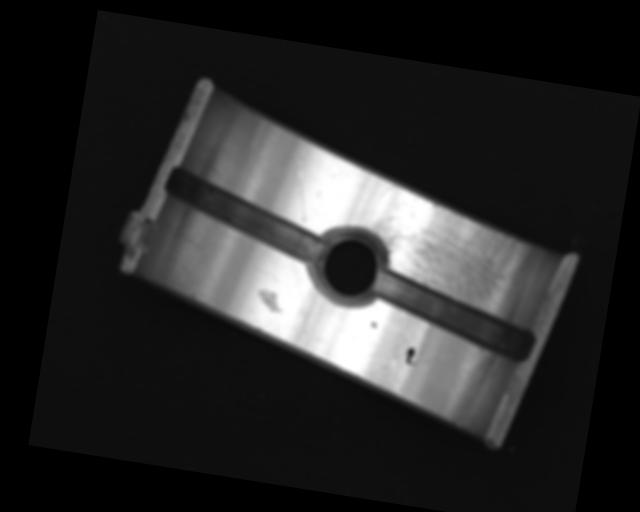blot: (403, 346, 421, 367)
bruise: (254, 285, 285, 313), (370, 322, 378, 329)
gap: (159, 167, 331, 266), (365, 271, 541, 364)
hole: (304, 223, 392, 311)
nick: (289, 160, 314, 223)
scratch: (359, 181, 540, 325)
